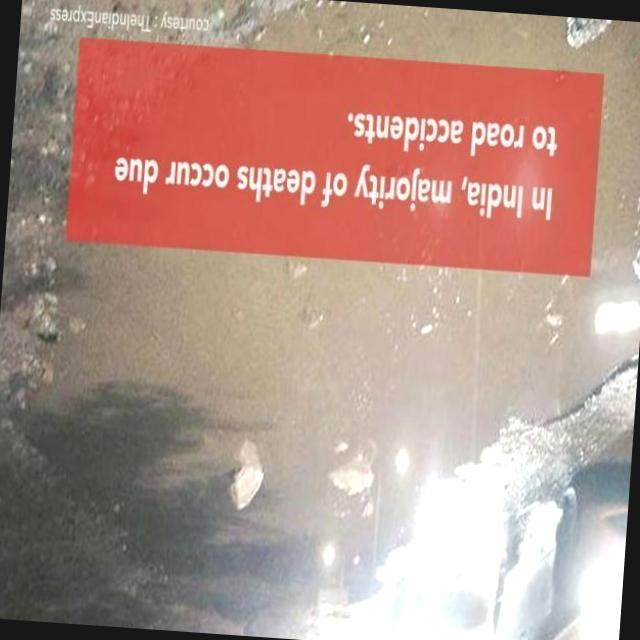Pathole: (22, 260, 636, 606)
